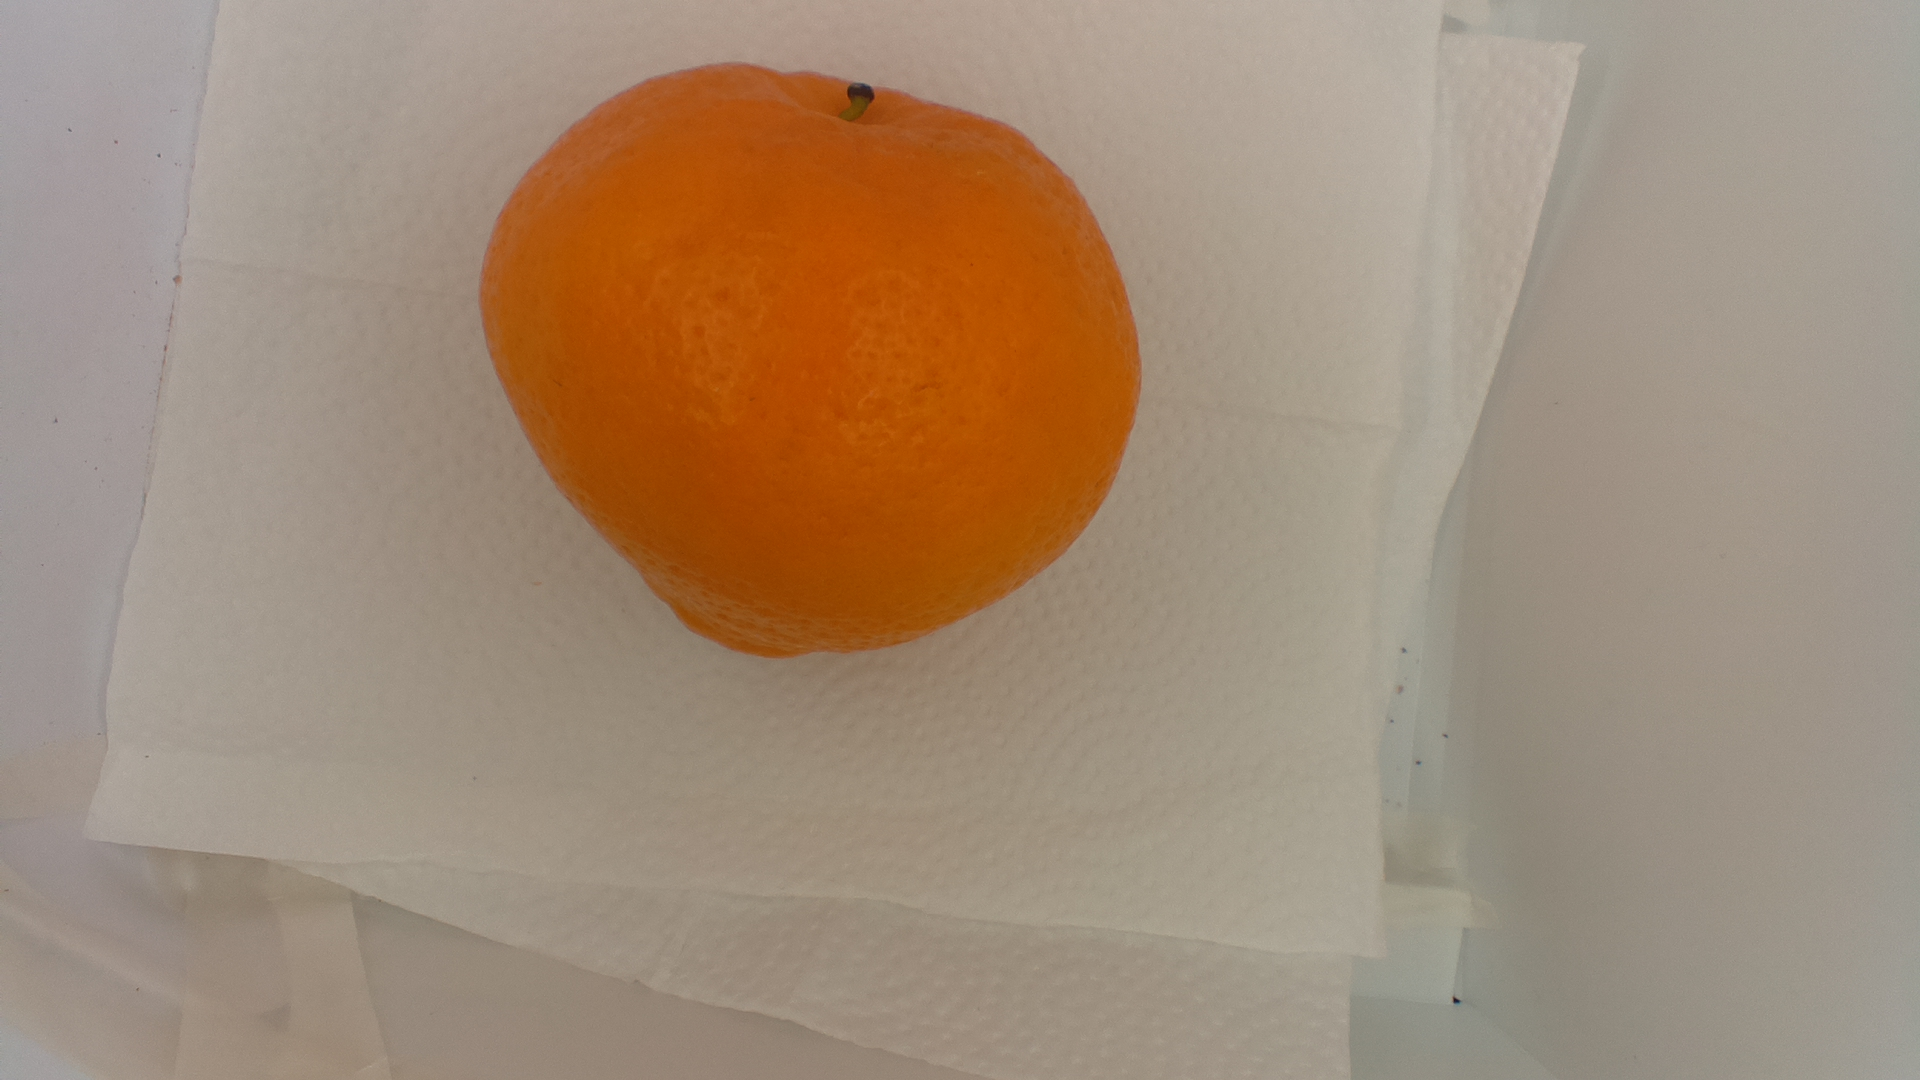fruit: (475, 61, 1145, 665)
